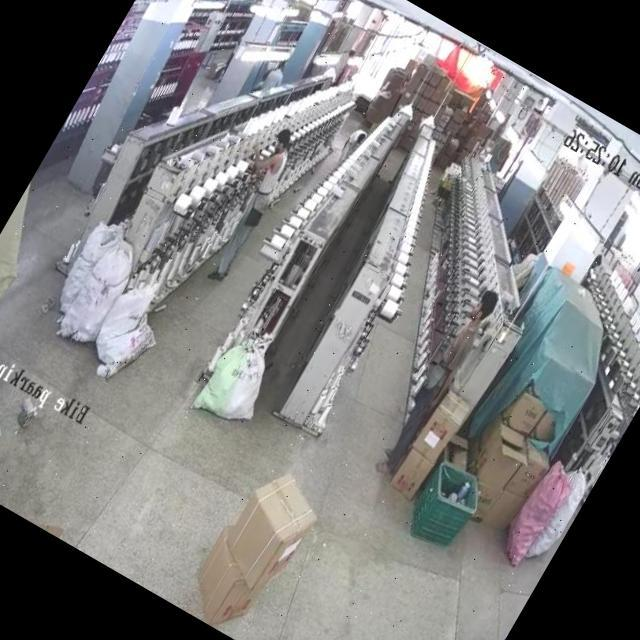person: (371, 278, 506, 486), (193, 117, 309, 280), (332, 116, 374, 170), (266, 56, 292, 91)
